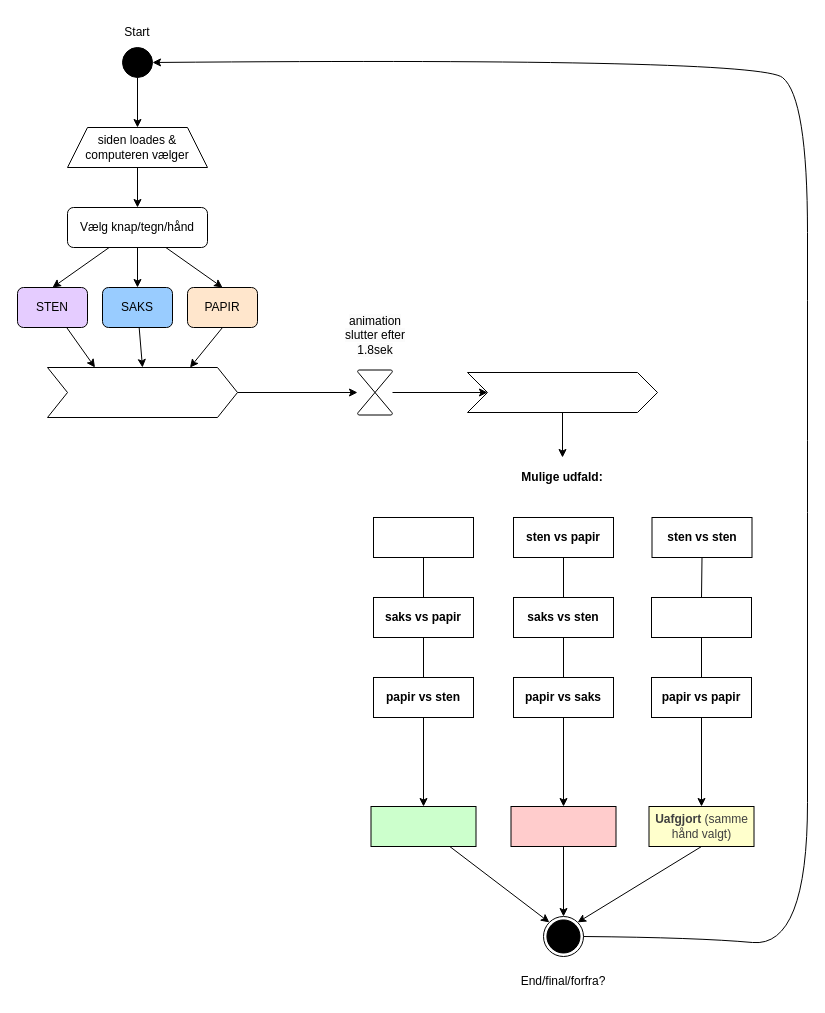
Some shapes in this 825 by 1013 pixel diagram are drawn without their labels. The centre of each missing label's shape, as x and y in pixels:
Afslør begge hænders valg: [562,392]
animation starter: hænder "ryster"/shaker: [142,392]
saks vs saks: [701,617]
Spiller taber (computer vinder): [563,826]
Spiller vinder (computer taber): [423,826]
sten vs saks: [423,537]
